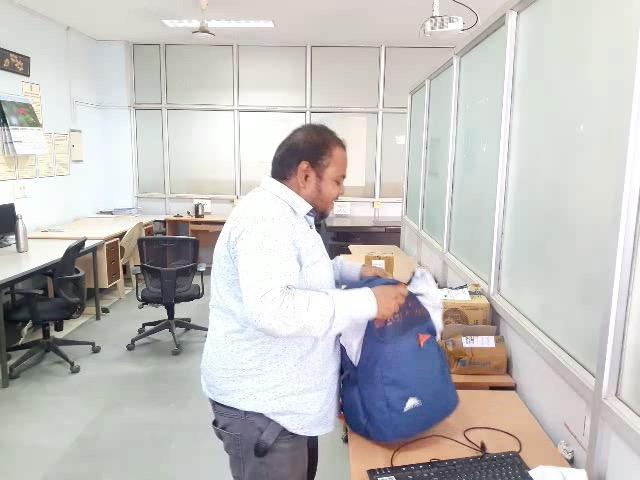shoplifting: (155, 191, 470, 467)
